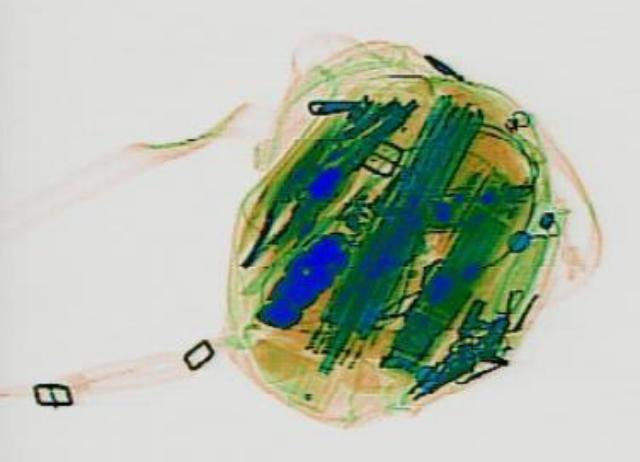Pliers: (226, 193, 304, 267)
